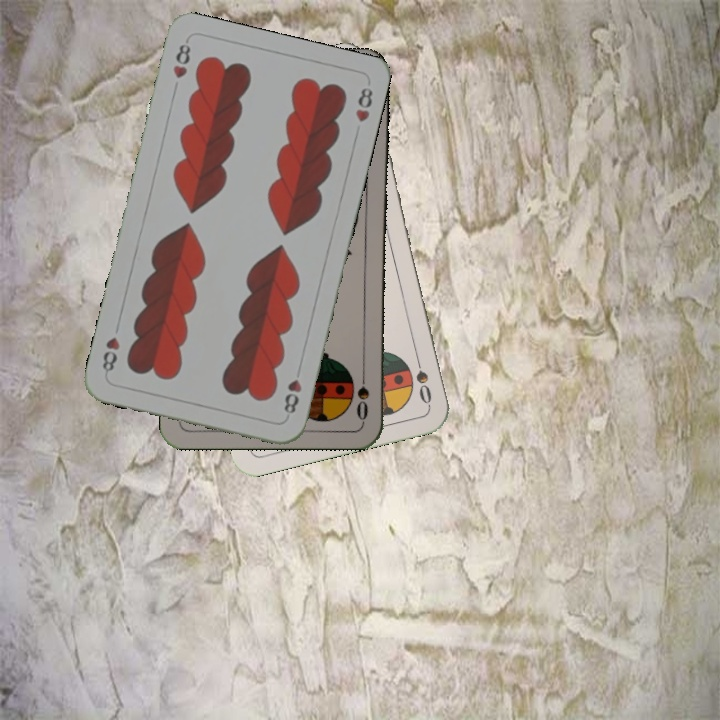H8: (169, 36, 193, 81), (279, 375, 304, 417)
SO: (410, 349, 435, 407), (353, 364, 372, 423)
